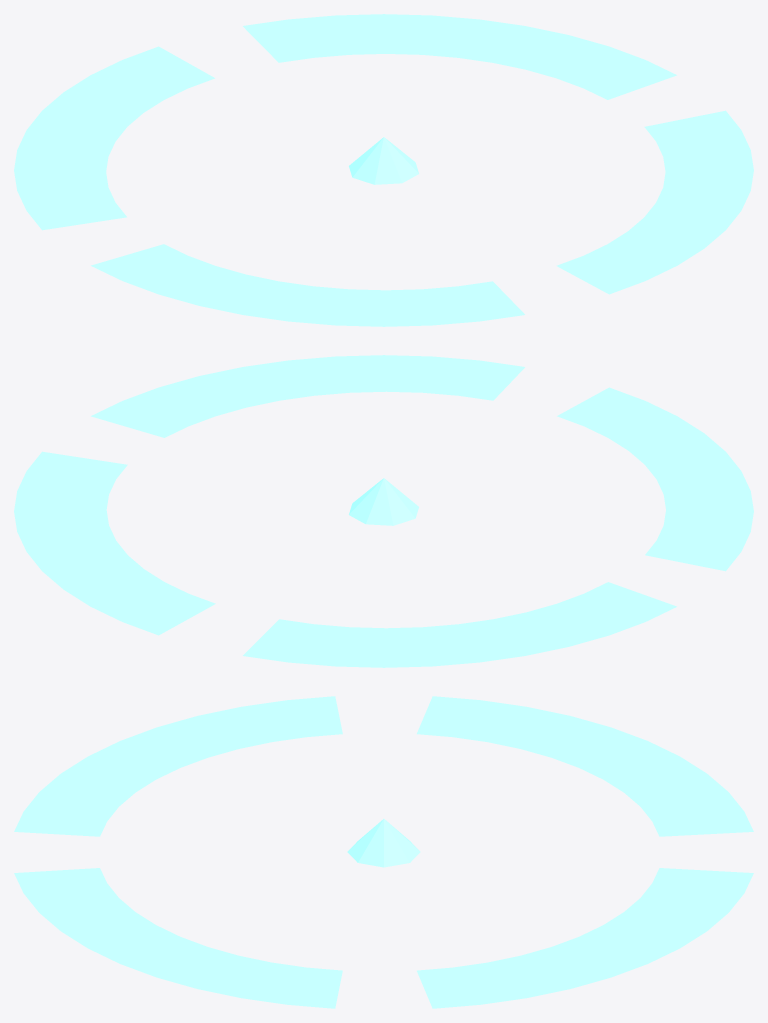
File: reticle.glb
The picture shows the model from 3 angles, top to bottom: view 1: azimuth 30°, elevation 25°; view 2: azimuth 150°, elevation 25°; view 3: azimuth 270°, elevation 25°; orthographic projection.
Visible parts, largest first — view 1: Torus; view 2: Torus; view 3: Torus.
Boxes of the visible parts, x1=… form: Torus: x1=14, y1=14, x2=753, y2=326; Torus: x1=14, y1=355, x2=753, y2=667; Torus: x1=14, y1=696, x2=753, y2=1008.
Size of the model in its own units: 0.1229 by 0.00621 by 0.1229.
